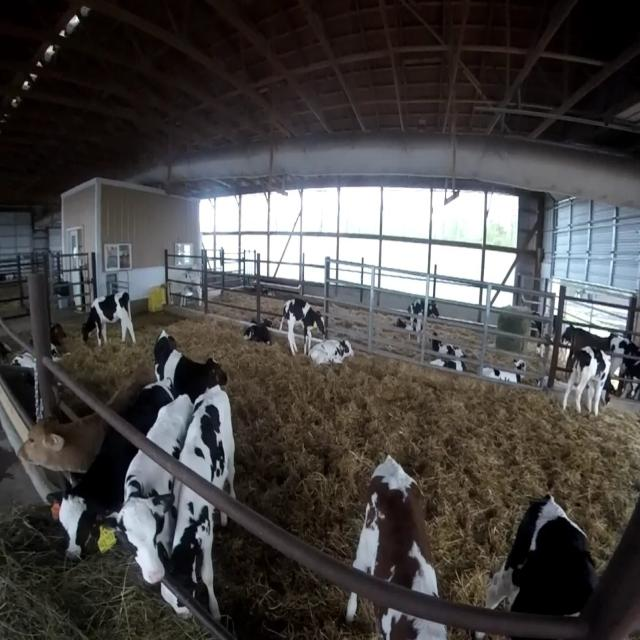cow: (345, 453, 448, 639), (473, 492, 600, 639), (162, 383, 236, 624), (578, 496, 639, 639), (153, 328, 228, 403), (562, 344, 613, 417), (81, 290, 135, 347), (495, 302, 551, 354), (278, 297, 326, 356), (395, 298, 439, 344), (429, 331, 467, 371), (308, 337, 354, 365), (242, 318, 272, 344)
